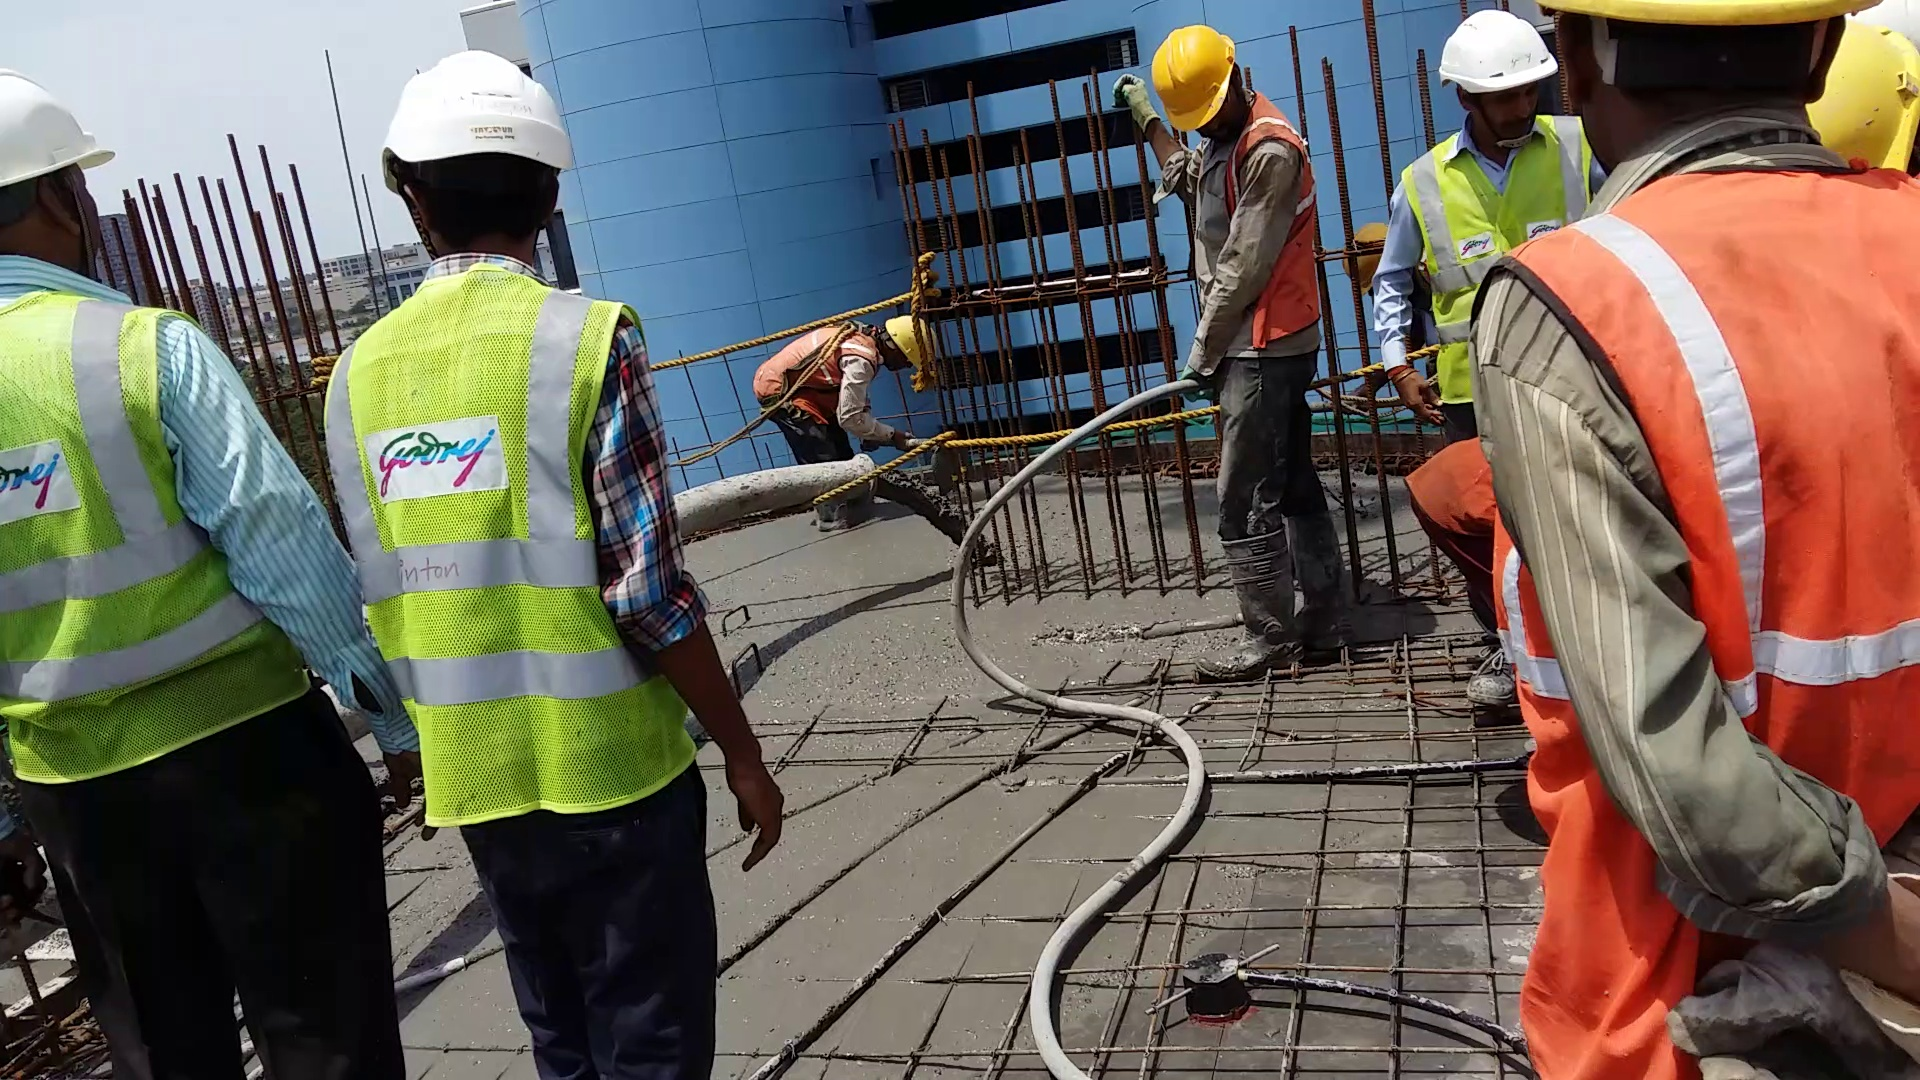SAFE: (1502, 1, 1919, 1077), (349, 55, 646, 814), (3, 61, 193, 786), (1149, 22, 1328, 368), (1389, 9, 1505, 435), (758, 313, 926, 419)
